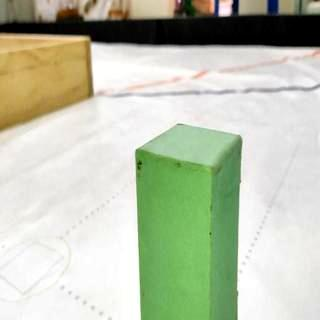greenbox: (134, 120, 244, 320)
